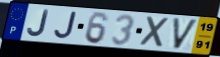3: (110, 13, 138, 48)
6: (83, 10, 111, 45)
J: (52, 11, 78, 41), (26, 9, 50, 38)
V: (171, 17, 200, 51)
X: (139, 15, 172, 49)
